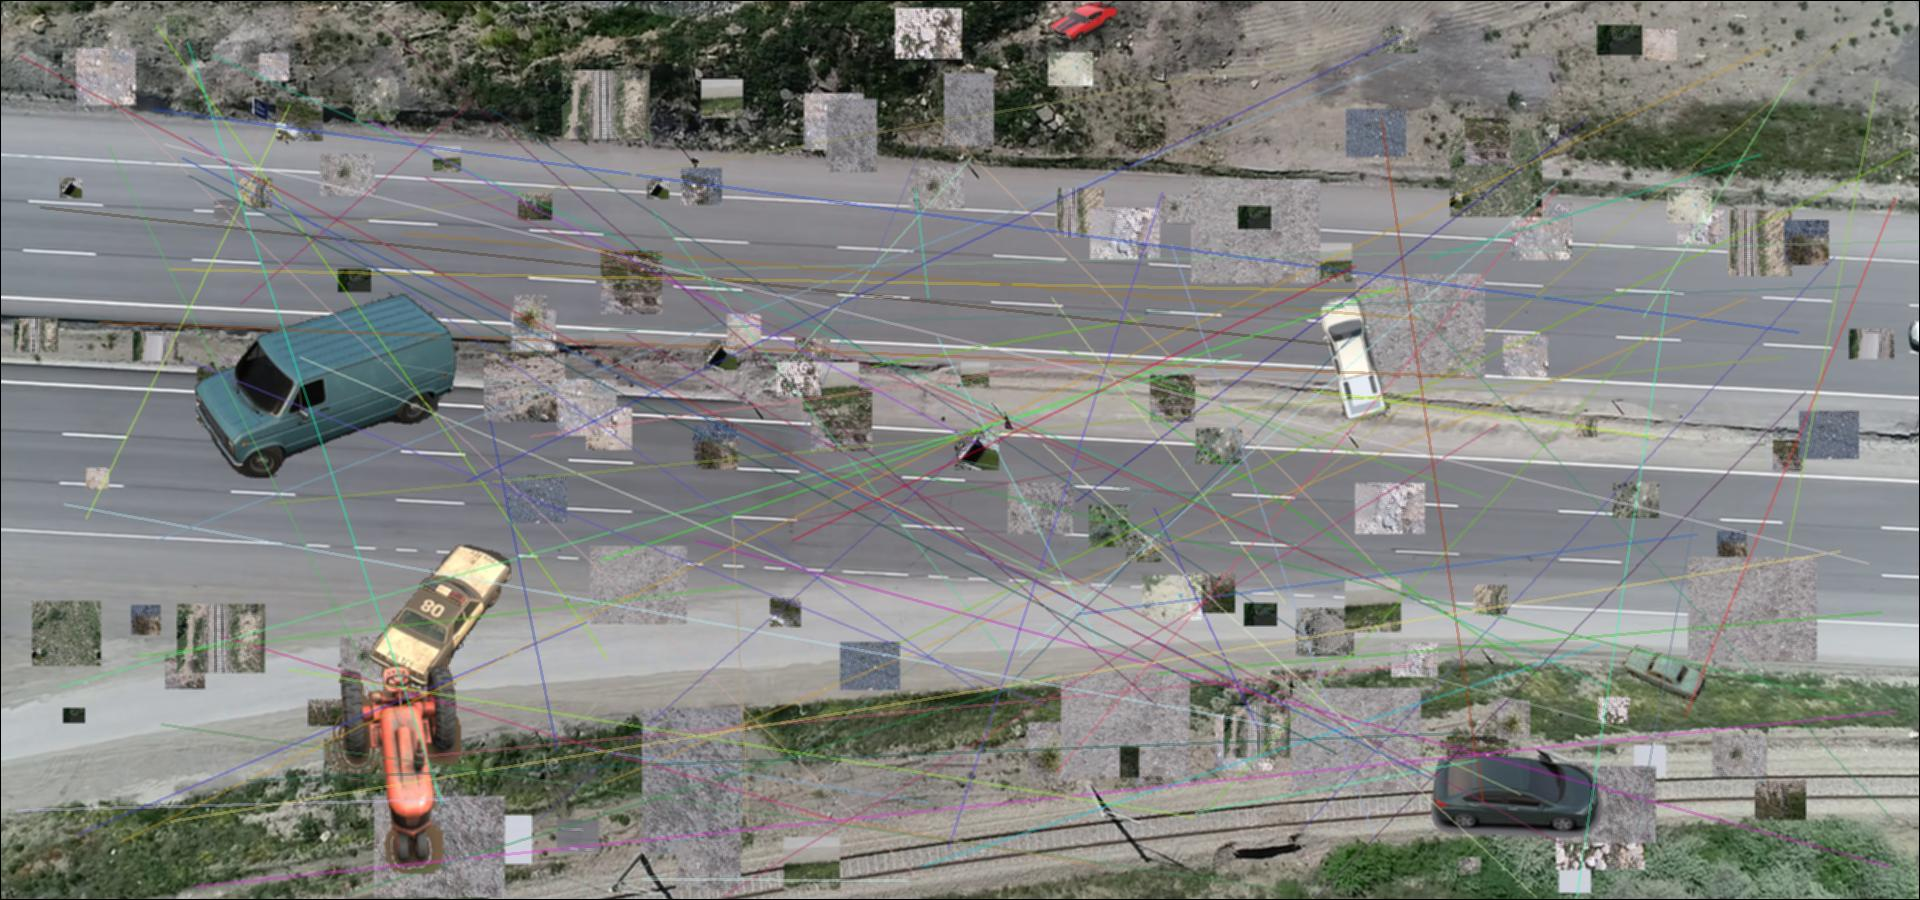arac: (195, 288, 458, 479), (326, 662, 460, 874), (370, 542, 511, 691), (1430, 754, 1605, 840), (1315, 291, 1393, 420), (1620, 640, 1707, 702), (1047, 2, 1120, 42)
